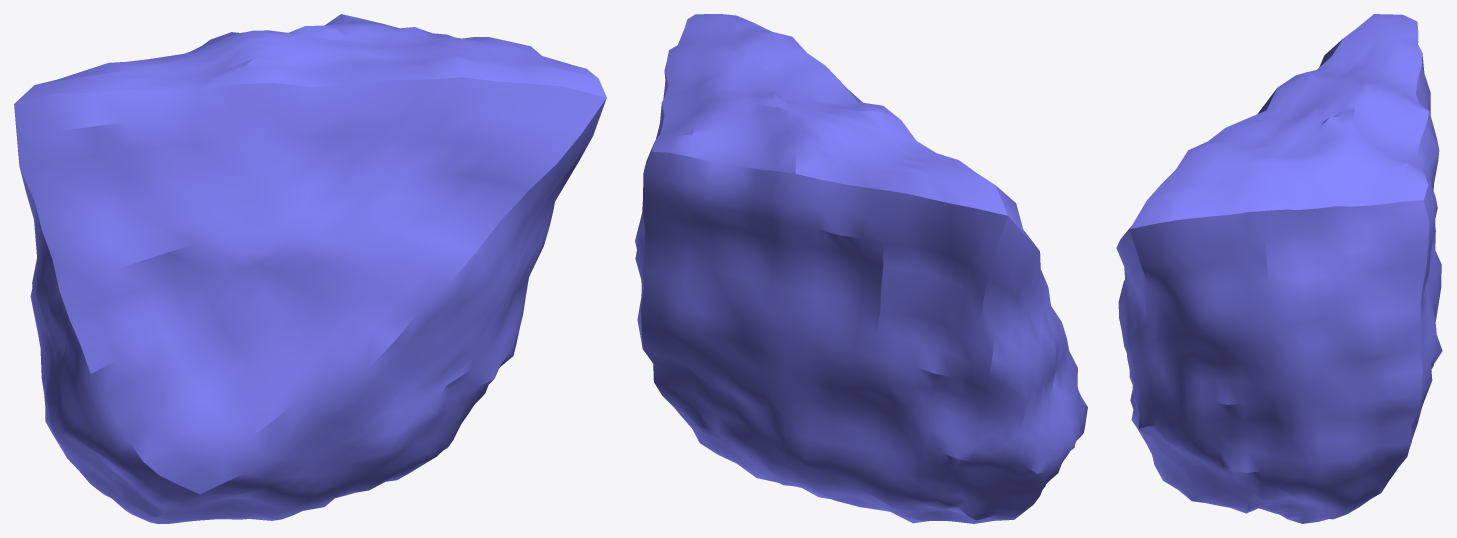
Rendered from Rock3.fbx.
3 views of the same model, side by side, from view 1: azimuth 30°, elevation 25°; view 2: azimuth 150°, elevation 25°; view 3: azimuth 270°, elevation 25° (orthographic). The views are drawn at different scales.
Visible parts, largest first — view 1: rock.003; view 2: rock.003; view 3: rock.003.
Part boxes in pixels (x1,y1,x2,y2): rock.003: (14,14,606,523); rock.003: (635,14,1087,523); rock.003: (1116,14,1442,523).
Size of the model in its own units: 360 by 315 by 223.
